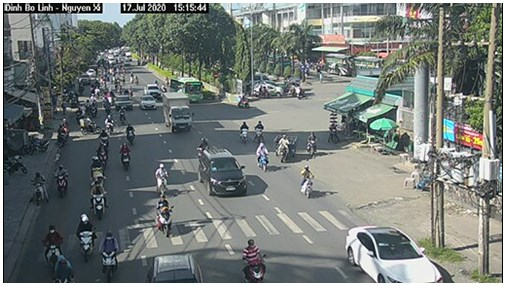xe_buyt: (167, 73, 205, 104)
xe_hoi: (343, 225, 446, 283), (194, 148, 250, 200), (136, 94, 158, 112), (114, 95, 133, 111)
xe_may: (239, 238, 270, 283), (72, 212, 96, 263), (99, 228, 121, 281), (41, 220, 62, 268), (155, 191, 176, 239), (26, 166, 48, 208), (295, 162, 316, 202), (49, 253, 76, 283), (89, 181, 110, 219), (154, 159, 172, 196), (54, 163, 70, 199), (88, 155, 106, 184), (78, 115, 99, 137), (120, 140, 133, 171), (256, 141, 269, 172), (252, 117, 267, 142), (103, 111, 117, 136), (55, 123, 68, 149), (306, 130, 319, 156), (95, 140, 108, 163), (237, 120, 249, 144), (327, 120, 338, 145), (117, 104, 129, 125)
xe_tai: (161, 92, 195, 132)
